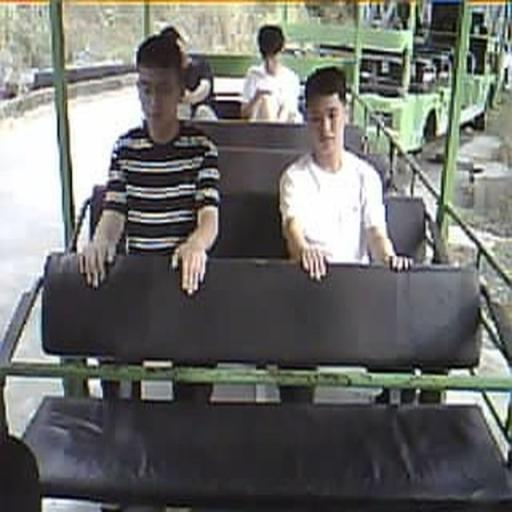persona: (76, 26, 222, 296), (278, 65, 415, 282), (240, 24, 304, 122), (160, 28, 218, 118)
